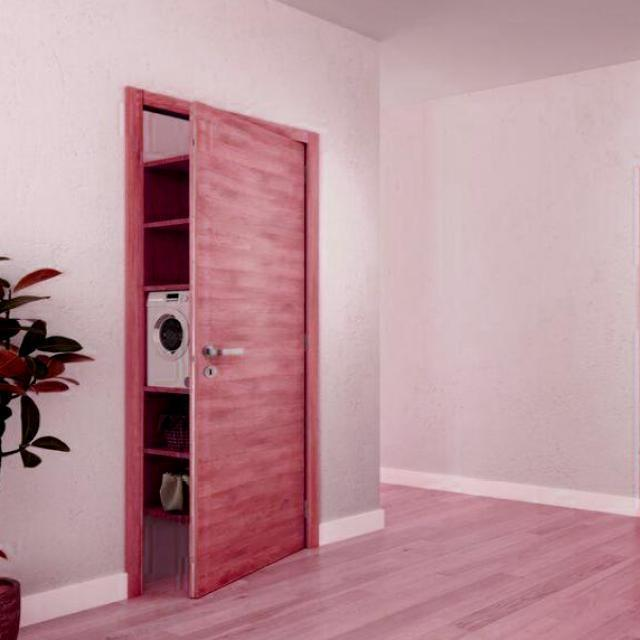door: (178, 96, 328, 610)
